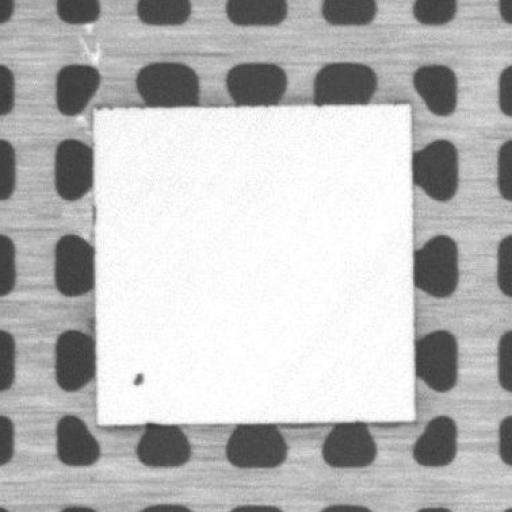DIE_INK: (132, 370, 146, 388)
